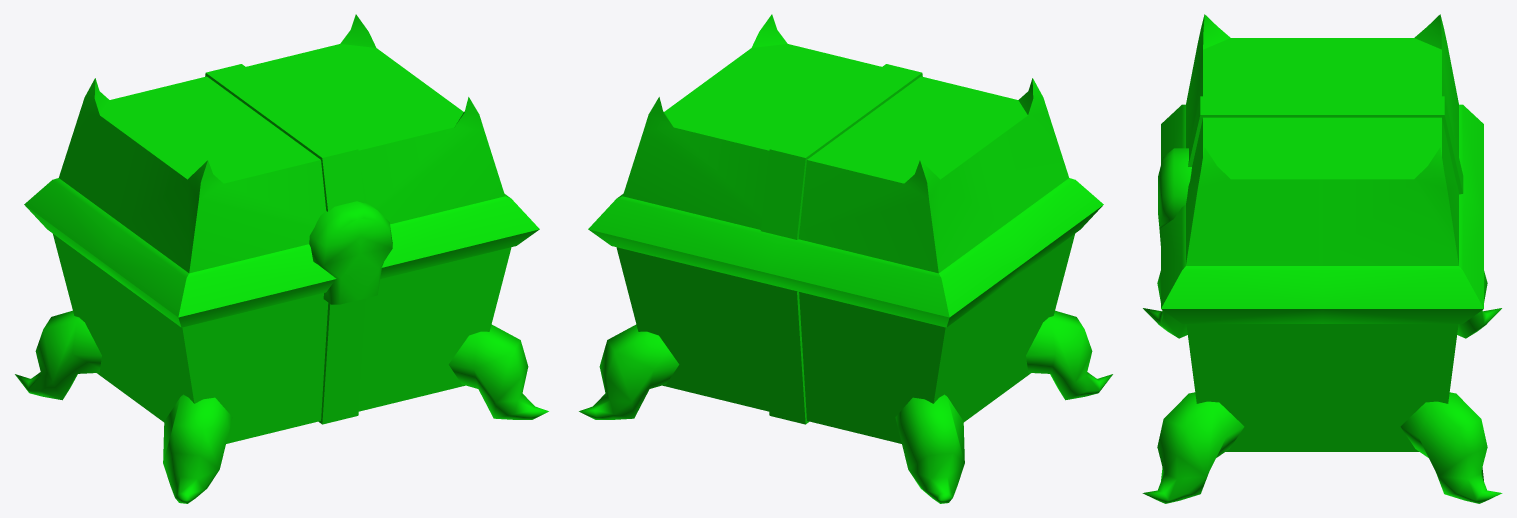
Rendered from chest.gltf.
3 renders of one model, left to right at view 1: azimuth 30°, elevation 25°; view 2: azimuth 150°, elevation 25°; view 3: azimuth 270°, elevation 25°, orthographic. The views are drawn at different scales.
Parts seen in each view (by area): view 1: treasurechest; view 2: treasurechest; view 3: treasurechest.
Boxes of the visible parts, x1=… form: treasurechest: x1=15, y1=14, x2=548, y2=503; treasurechest: x1=579, y1=14, x2=1112, y2=503; treasurechest: x1=1142, y1=14, x2=1502, y2=503.
Bounding box in the file's own units: 4.6 × 3.85 × 3.78.
